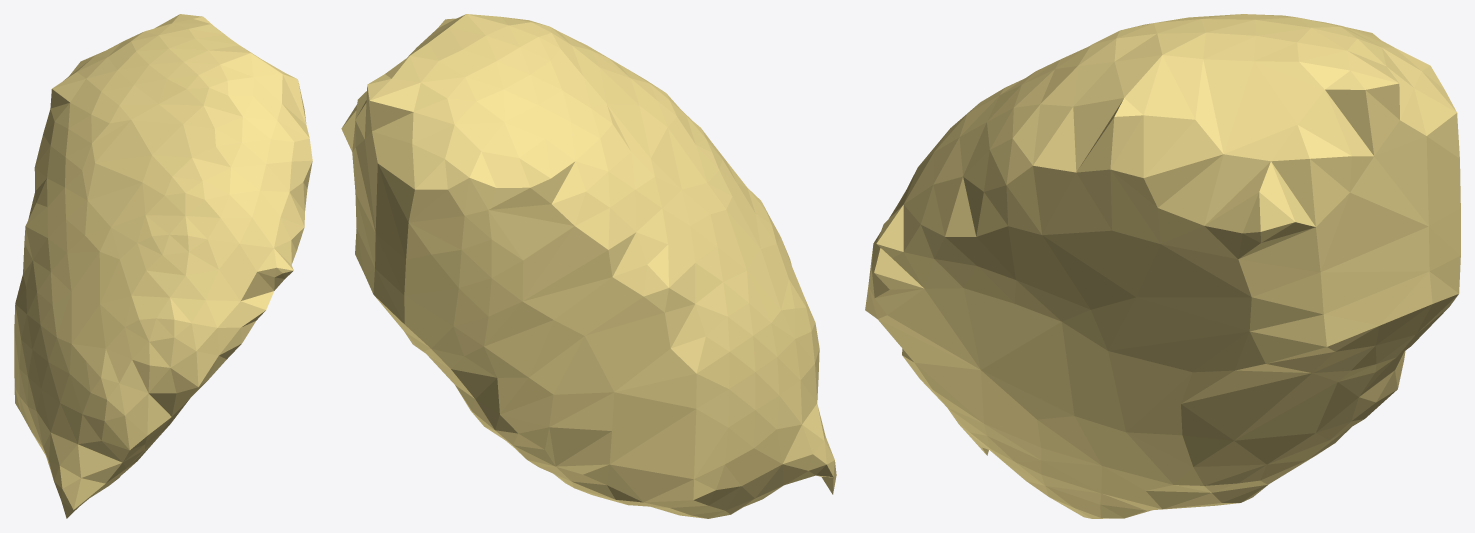
The model's file is Model_10181_LH__Medial_amygdaloid_nucleus_(Me).obj.
3 views of the same model, side by side, from view 1: azimuth 30°, elevation 25°; view 2: azimuth 150°, elevation 25°; view 3: azimuth 270°, elevation 25° (orthographic). The views are drawn at different scales.
Size of the model in its own units: 1.01 by 1.19 by 1.07.
